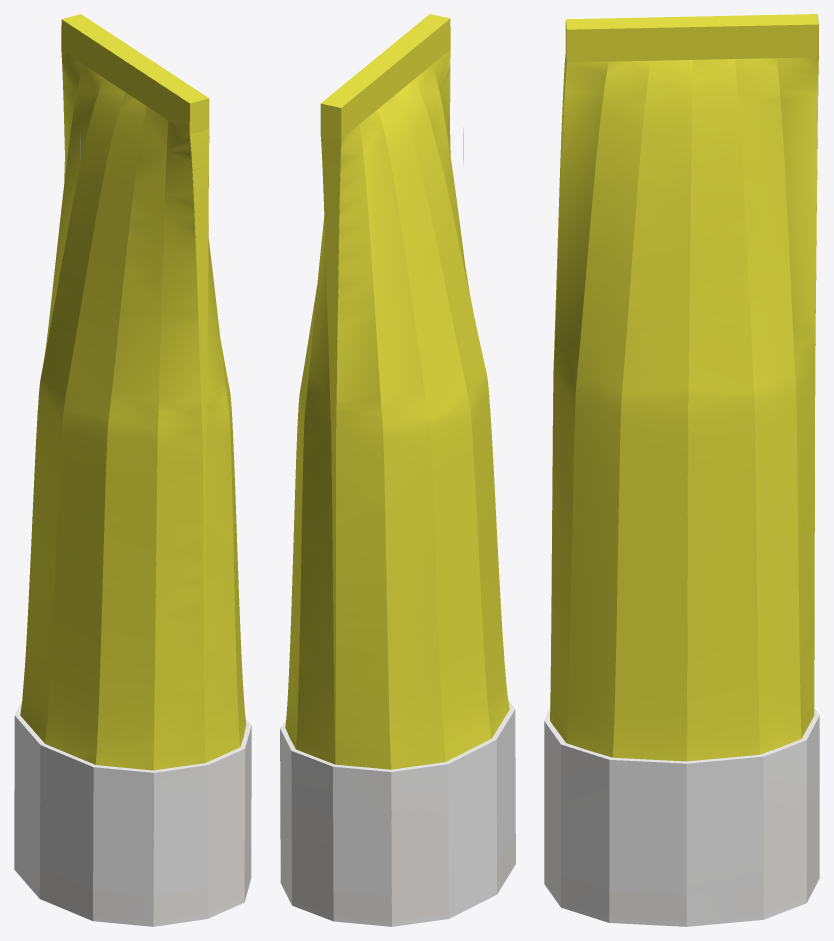
The model's file is NEW 2 pomata chiusa 1.fbx.
3 renders of one model, left to right at view 1: azimuth 30°, elevation 25°; view 2: azimuth 150°, elevation 25°; view 3: azimuth 270°, elevation 25°, orthographic. The views are drawn at different scales.
Visible parts, largest first — view 1: Object_3; view 2: Object_3; view 3: Object_3.
Boxes of the visible parts, x1,y1,x2,y2 form: Object_3: (14, 14, 251, 926); Object_3: (280, 14, 515, 926); Object_3: (544, 14, 819, 926).
Bounding box in the file's own units: 5.63 × 23.17 × 6.71.
